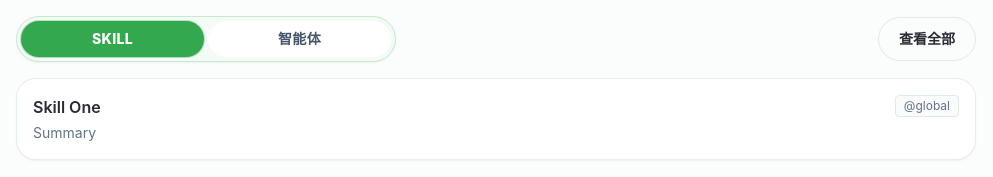
Scenario: MyWeavePage › uses tag tabs to switch between SKILL and 智能体 lists
Expected: the button "SKILL" is shown, [21,21,204,57]
Expected: the text "Skill One" is shown, [33,95,101,119]
Click the button "智能体" at (300, 39), box [208,21,391,57]
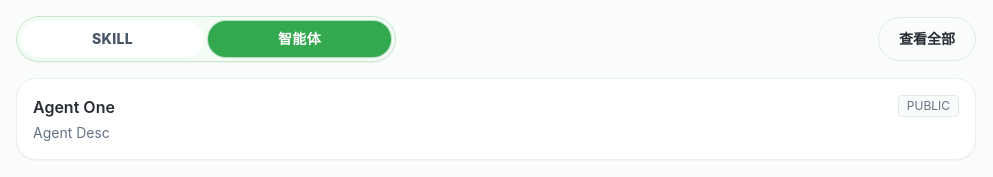
Expected: the text "Agent One" is shown, [33,95,115,119]
Expected: the text "Skill One" is gone
